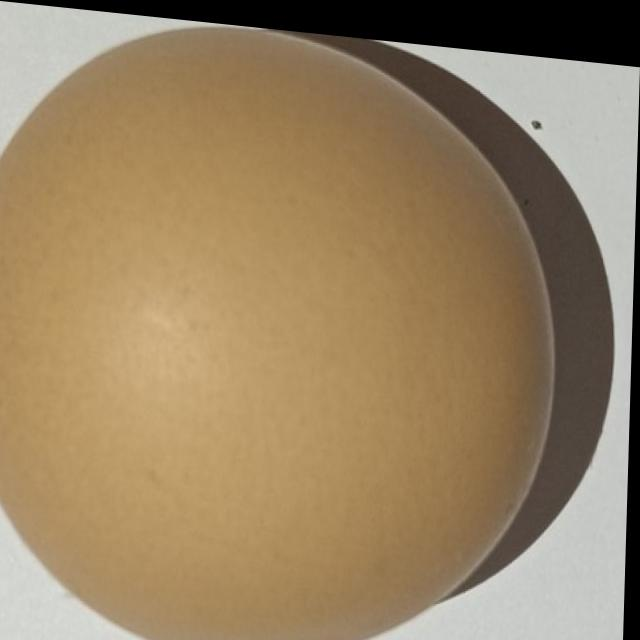fresh: (0, 8, 554, 640)
